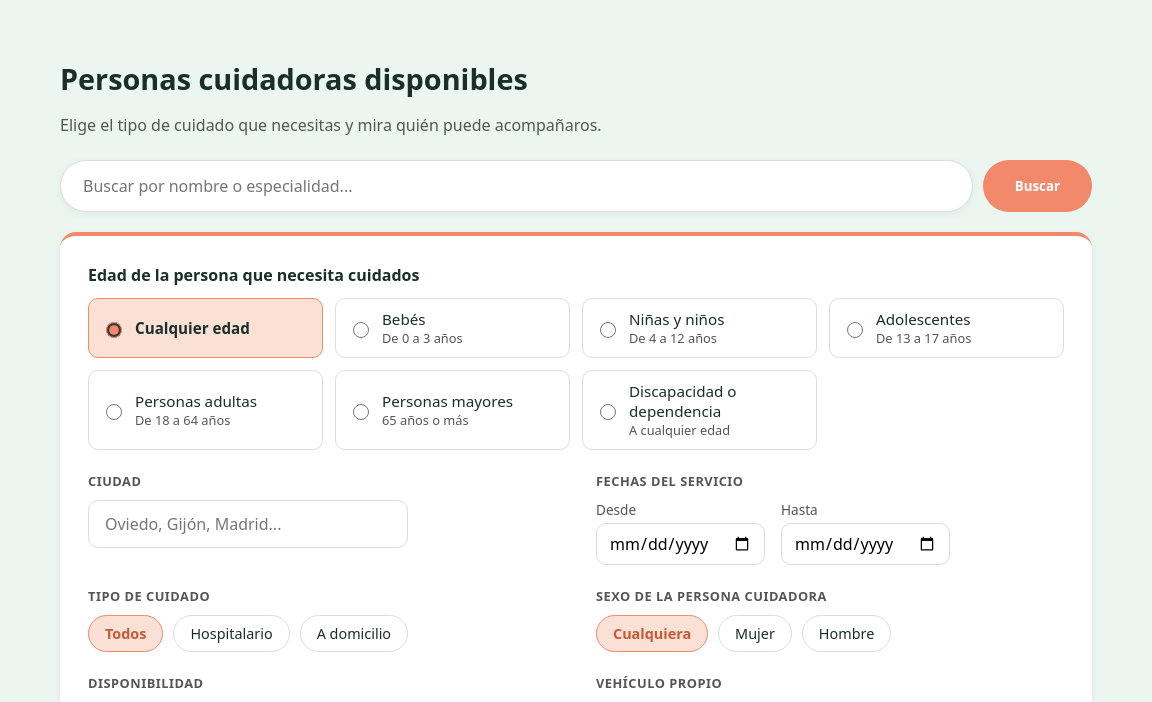
Test: BuscarView › si falla la consulta de fechas avisa y muestra a todos
Type "2026-11-01" into the date field with id "filtro-fecha-desde" at (680, 544), box left=596, top=523, right=765, bottom=565
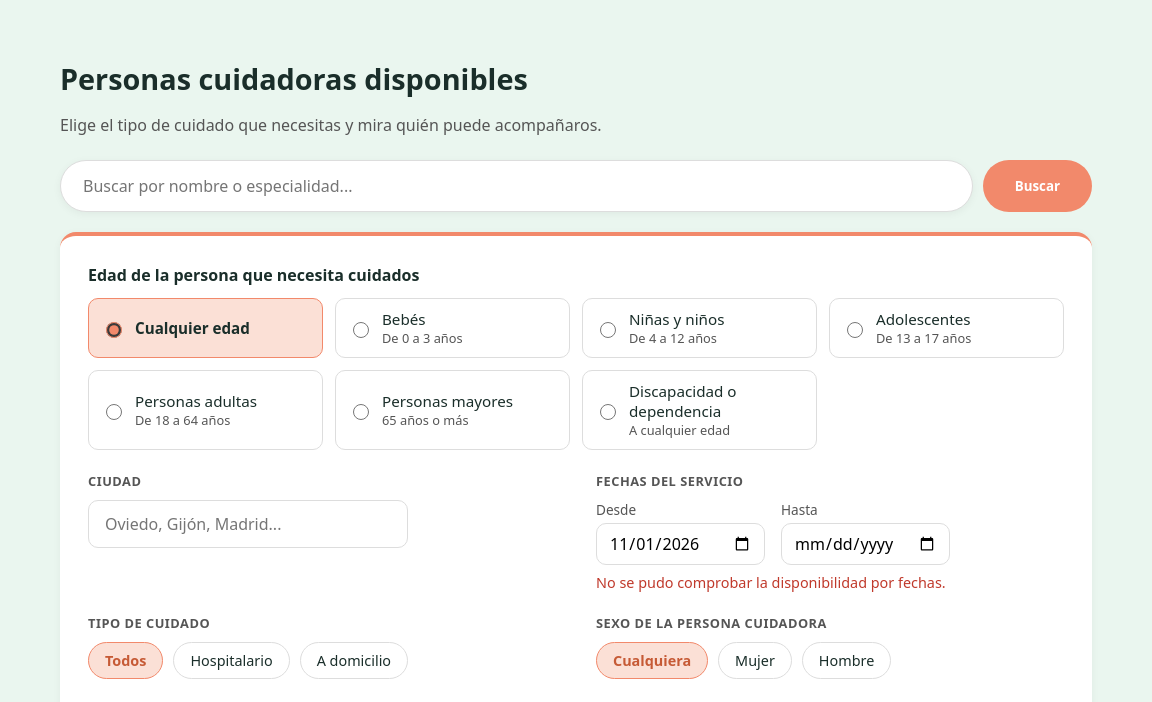
Now the text "No se pudo comprobar la disponibilidad por fechas" is shown, box left=596, top=573, right=946, bottom=592
